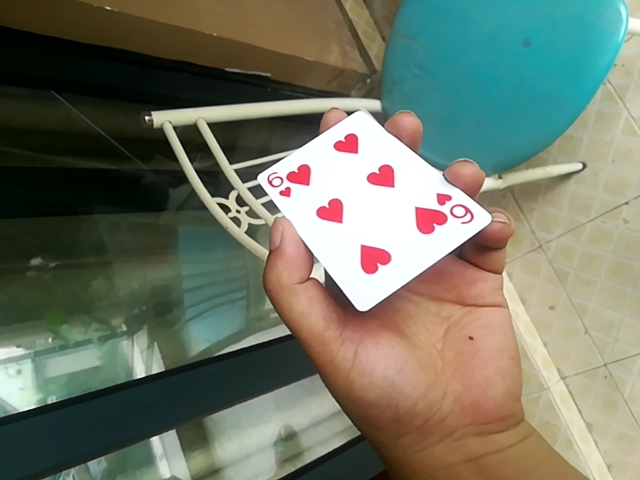hx 6: (239, 101, 494, 314)
